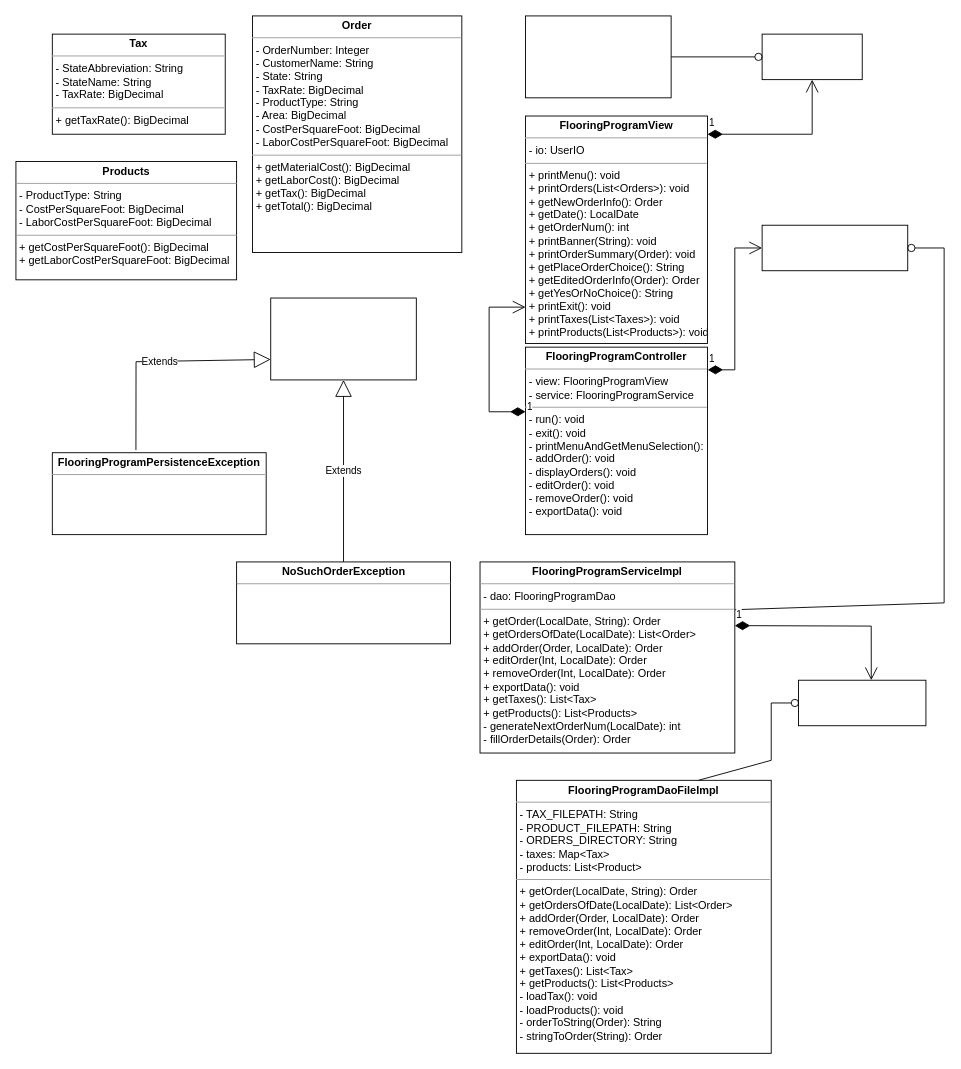
This 961x1069 diagram has some shape labels left out. Here are the shapes that lost their labels. From the top down, the box of each, then its label:
(525, 15, 671, 98): UserIOConsoleImpl
(761, 33, 862, 80): «interface» UserIO
(761, 224, 908, 271): «interface» FlooringProgramService
(270, 297, 416, 380): Exception
(798, 679, 926, 726): «interface» FlooringProgramDao
